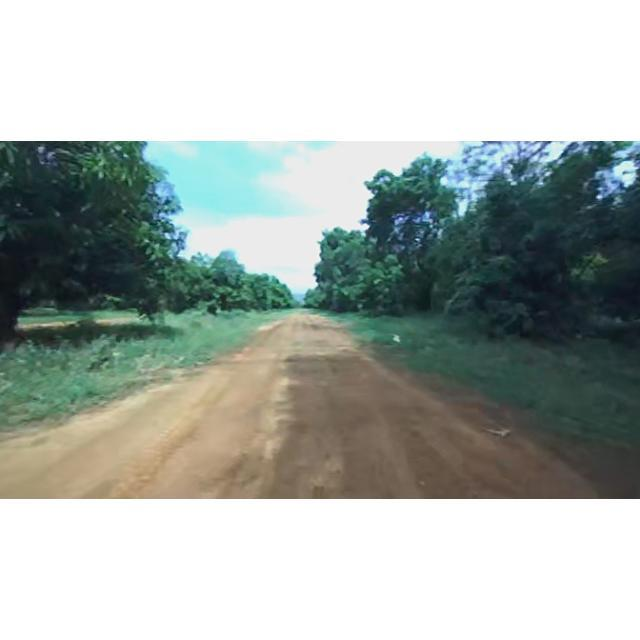tree: (414, 142, 640, 340), (0, 144, 192, 356), (360, 153, 452, 310), (148, 234, 290, 316), (308, 214, 408, 320)
